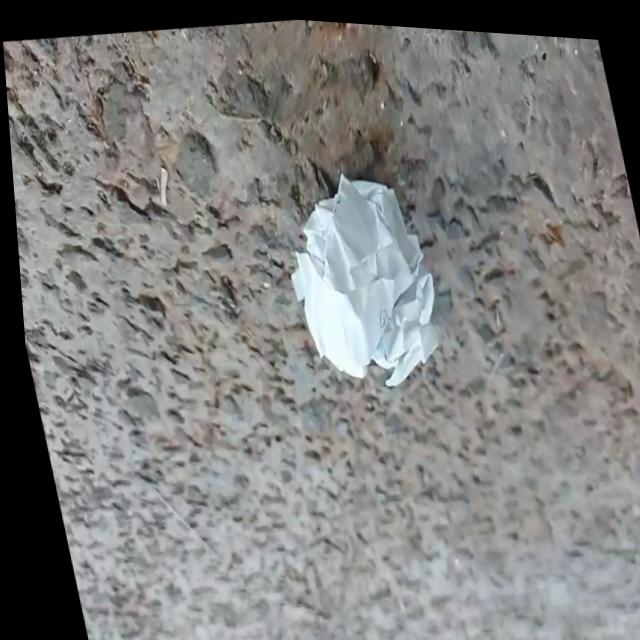paper: (292, 176, 437, 386)
